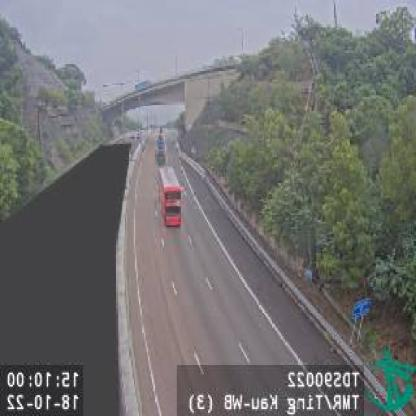Bus: (159, 169, 182, 228)
